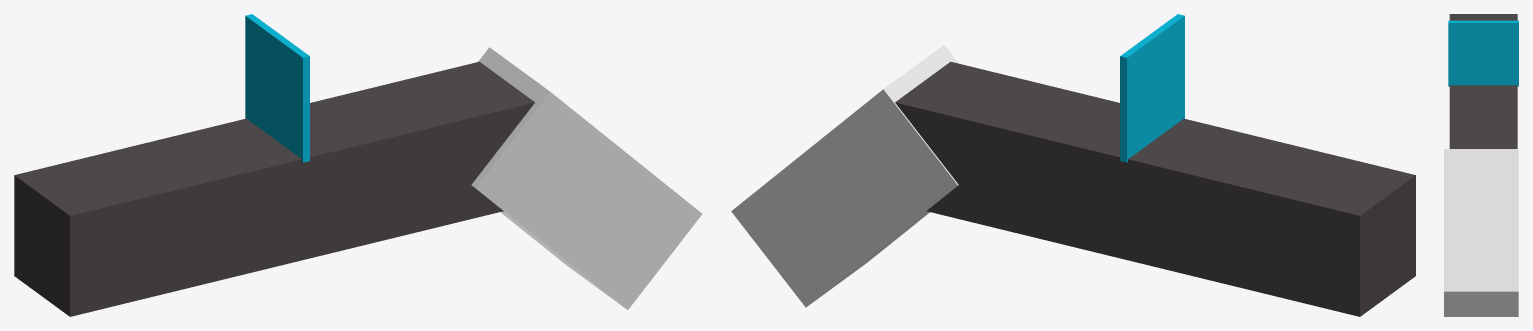
File: ouuf.fbx
3 views of the same model, side by side, from view 1: azimuth 30°, elevation 25°; view 2: azimuth 150°, elevation 25°; view 3: azimuth 270°, elevation 25° (orthographic). The views are drawn at different scales.
Visible parts, largest first — view 1: Cube, Cube.001, Plane; view 2: Cube, Cube.001, Plane; view 3: Cube.001, Cube, Plane.
Part boxes in pixels (x1,y1,x2,y2): Cube: [14, 61, 534, 316]; Cube.001: [471, 47, 702, 309]; Plane: [245, 14, 309, 162]; Cube: [895, 61, 1415, 316]; Cube.001: [731, 44, 958, 307]; Plane: [1120, 14, 1184, 162]; Cube.001: [1444, 149, 1518, 316]; Cube: [1449, 14, 1517, 148]; Plane: [1448, 20, 1518, 86].
Bounding box in the file's own units: 1301 × 650 × 219.
